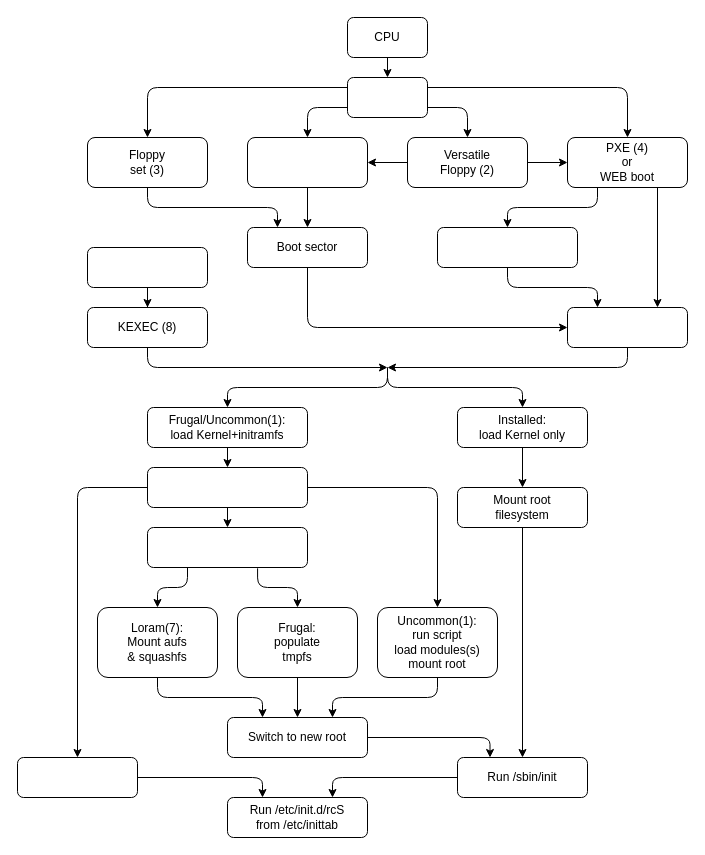
Image size: 705x855. Some labels were removed from this diagram. Here are the shapes that lost their labels. From the top down, the centre of each, then its label:
At [387,97]: "BIOS".
At [307,162]: "Hard Disk DVD/CD-ROM USB key".
At [147,267]: "Already running Kernel".
At [507,247]: "PXE forwarder (5)".
At [627,327]: "Boot loader".
At [227,487]: "Run /init".
At [227,547]: "Create tmpfs".
At [77,777]: "Tiny SliTaz(6):".
